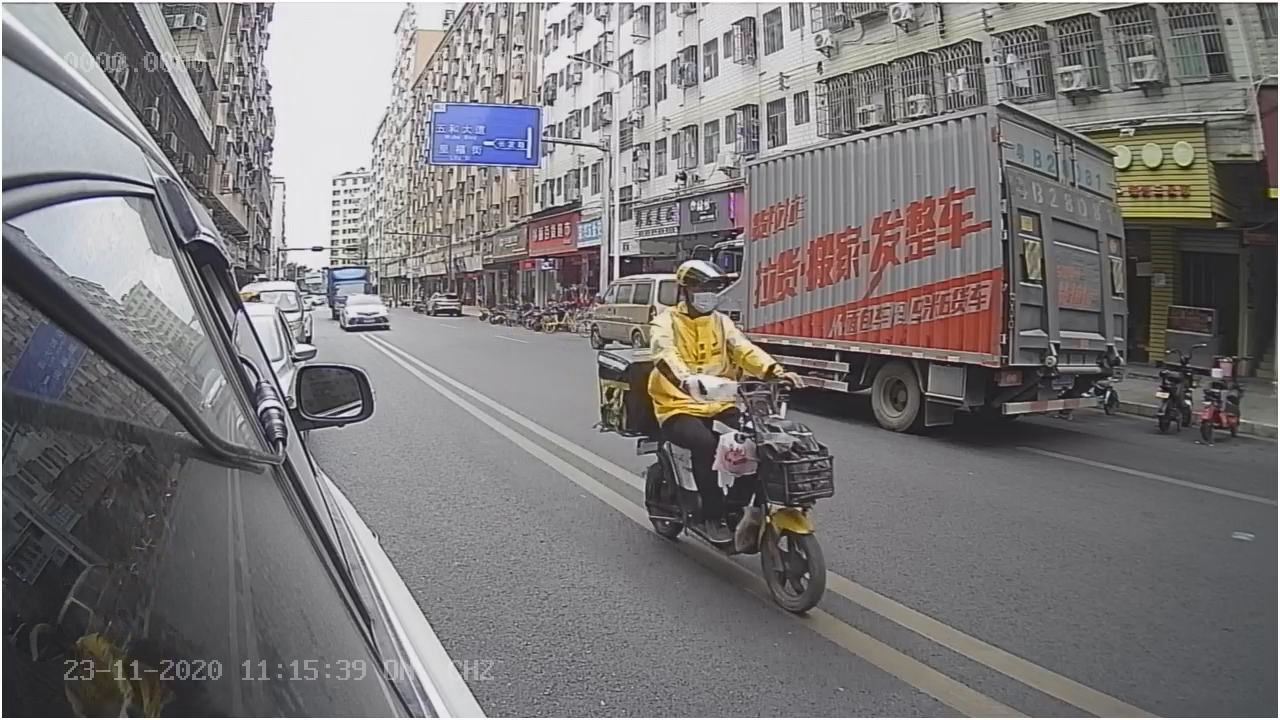person: (641, 257, 813, 405)
